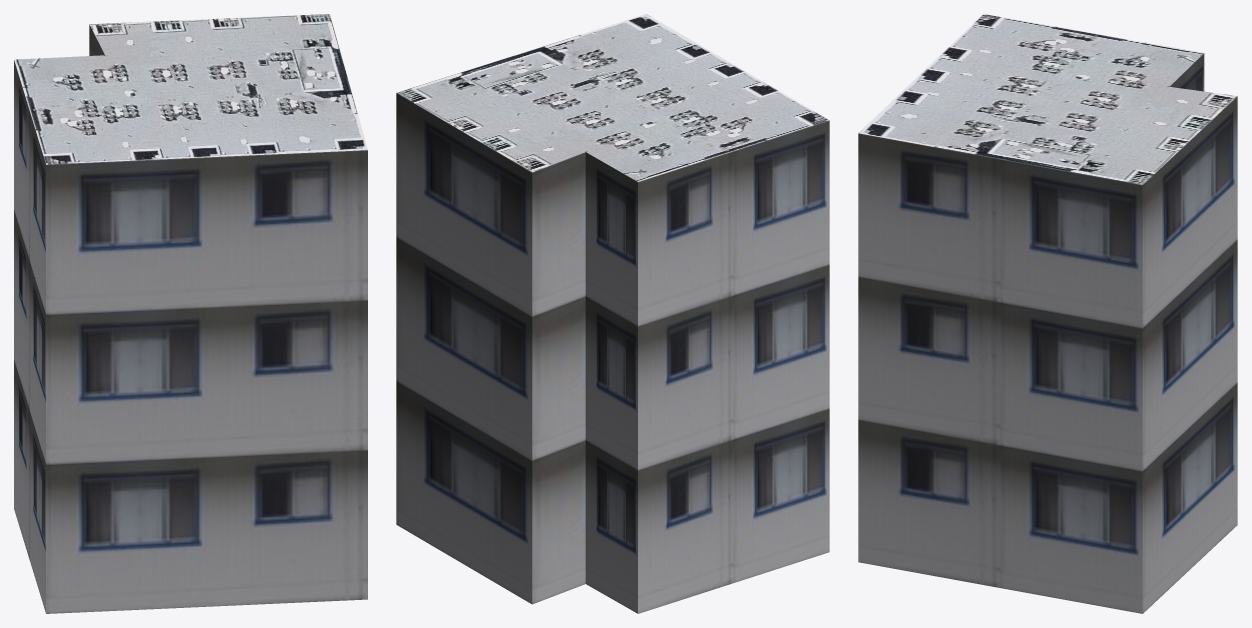
The model's file is ResTex__4898.fbx.
3 renders of one model, left to right at view 1: azimuth 30°, elevation 25°; view 2: azimuth 150°, elevation 25°; view 3: azimuth 270°, elevation 25°, orthographic. The views are drawn at different scales.
Visible parts, largest first — view 1: CityEngineMaterial_9_m, CityEngineMaterial_4_m; view 2: CityEngineMaterial_9_m, CityEngineMaterial_4_m; view 3: CityEngineMaterial_9_m, CityEngineMaterial_4_m.
Boxes of the visible parts, box(x1,y1,x2,y2) form: CityEngineMaterial_9_m: box(14, 24, 367, 613); CityEngineMaterial_4_m: box(14, 14, 367, 164); CityEngineMaterial_9_m: box(396, 93, 829, 613); CityEngineMaterial_4_m: box(397, 14, 828, 181); CityEngineMaterial_9_m: box(858, 53, 1237, 613); CityEngineMaterial_4_m: box(858, 14, 1237, 184).
Size of the model in its own units: 7.69 by 9 by 7.21.
2 materials, 2 textured.
